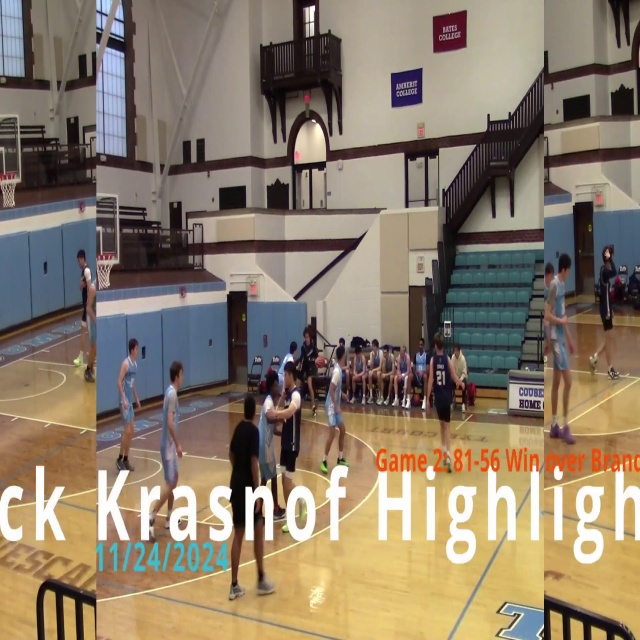Basketball: (266, 409, 277, 424), (73, 358, 81, 366), (80, 280, 86, 289)
